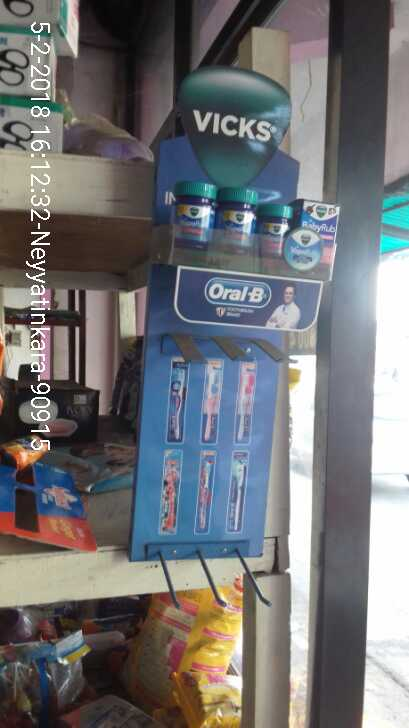pharmacy: (172, 180, 218, 244), (218, 186, 256, 253), (258, 202, 296, 262)
